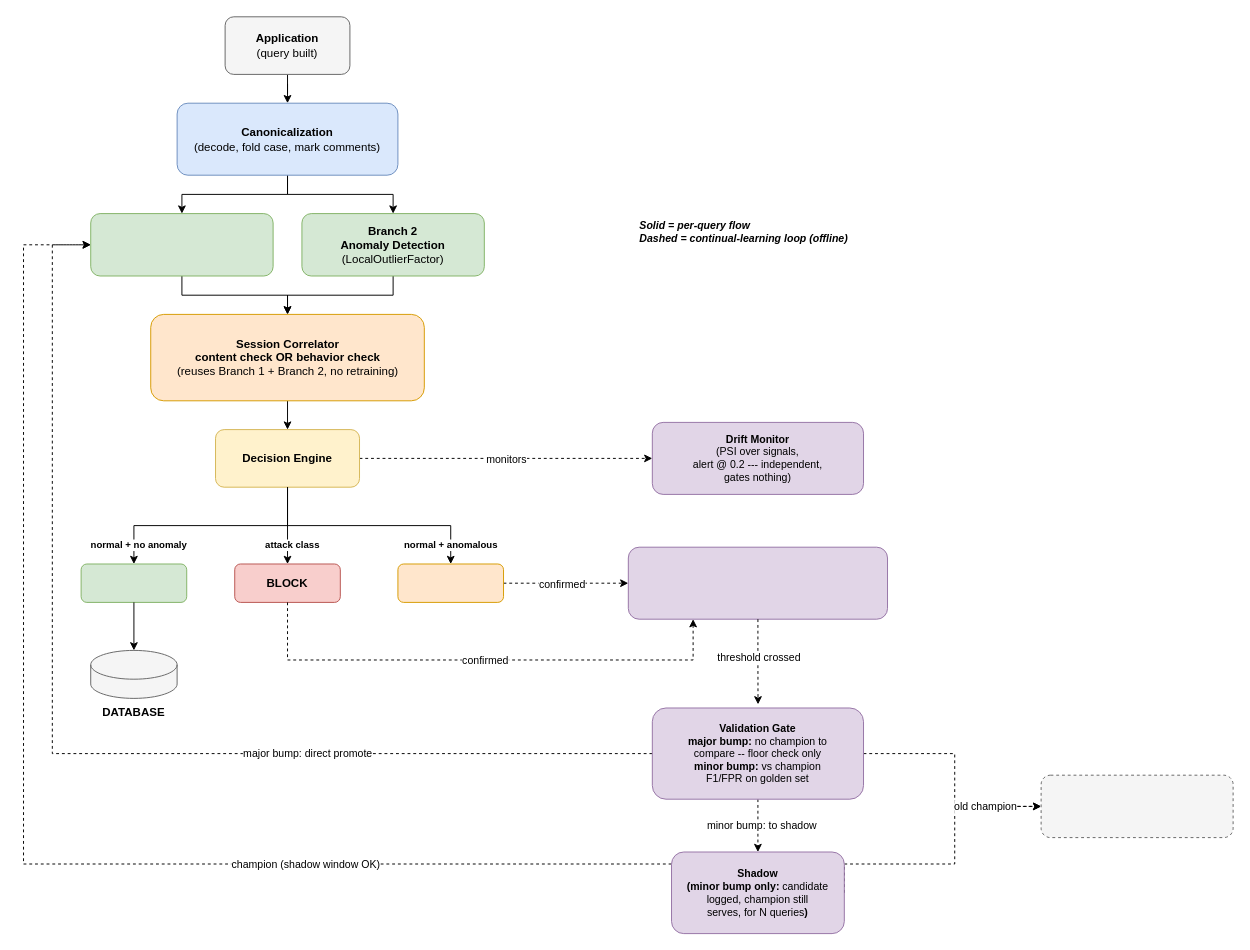
Image size: 1250x950. Some labels were removed from this diagram. The shapes that lost their labels are listed below. From the top down, each one's centre as x and y in pixels, then its label:
the point at 181,244: Branch 1 Supervised Multi-Class (TF-IDF + LogReg)
the point at 133,582: ALLOW
the point at 450,582: OVERKILL
the point at 757,582: Review Queue (admin confirms; retrain once confirmed count crosses threshold)
the point at 1136,806: Retired (superseded model, kept for rollback/audit)
